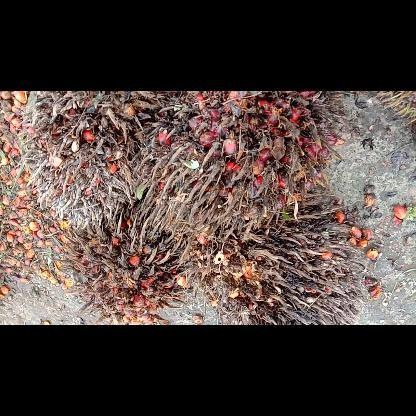Terlalu masak: (127, 91, 351, 243), (176, 184, 370, 324), (16, 91, 166, 229), (41, 202, 197, 324)
